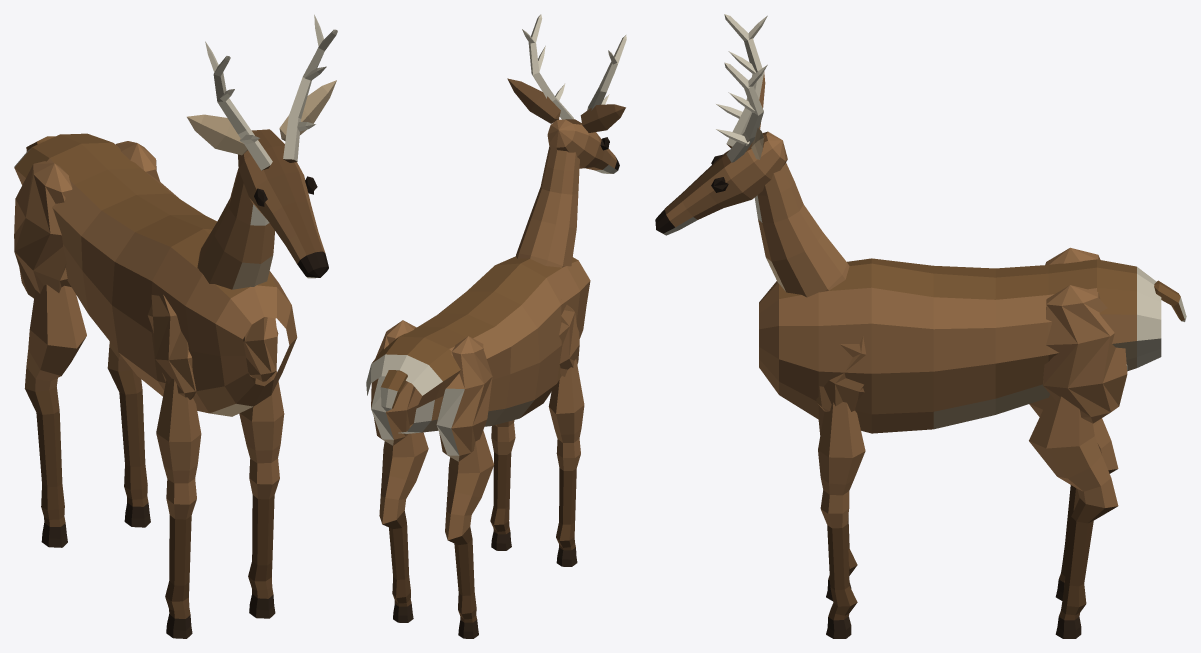
The model's file is deer.glb.
3 renders of one model, left to right at view 1: azimuth 30°, elevation 25°; view 2: azimuth 150°, elevation 25°; view 3: azimuth 270°, elevation 25°, orthographic. The views are drawn at different scales.
Parts seen in each view (by area): view 1: deer_body, deer_head, deer_leg_HR, deer_leg_FR, deer_leg_FL, deer_neck, deer_leg_HL; view 2: deer_body, deer_head, deer_neck, deer_leg_HR, deer_leg_HL, deer_leg_FR, deer_leg_FL; view 3: deer_body, deer_head, deer_leg_HL, deer_neck, deer_leg_FL, deer_leg_HR.
Boxes of the visible parts, bbox=[...] form: deer_body: bbox=[14, 133, 297, 416]; deer_head: bbox=[187, 14, 337, 278]; deer_leg_HR: bbox=[24, 284, 86, 547]; deer_leg_FR: bbox=[156, 378, 201, 638]; deer_leg_FL: bbox=[239, 371, 284, 618]; deer_neck: bbox=[197, 168, 274, 289]; deer_leg_HL: bbox=[107, 341, 150, 527]; deer_body: bbox=[366, 256, 590, 461]; deer_head: bbox=[507, 14, 626, 173]; deer_neck: bbox=[516, 146, 579, 267]; deer_leg_HR: bbox=[445, 430, 494, 638]; deer_leg_HL: bbox=[379, 424, 428, 622]; deer_leg_FR: bbox=[548, 359, 584, 566]; deer_leg_FL: bbox=[490, 420, 515, 550]; deer_body: bbox=[759, 247, 1186, 433]; deer_head: bbox=[655, 14, 787, 235]; deer_leg_HL: bbox=[1029, 394, 1118, 638]; deer_neck: bbox=[754, 163, 849, 297]; deer_leg_FL: bbox=[818, 402, 865, 638]; deer_leg_HR: bbox=[1029, 398, 1118, 600].
Bounding box in the file's own units: 0.3631 × 1.44 × 1.2.
